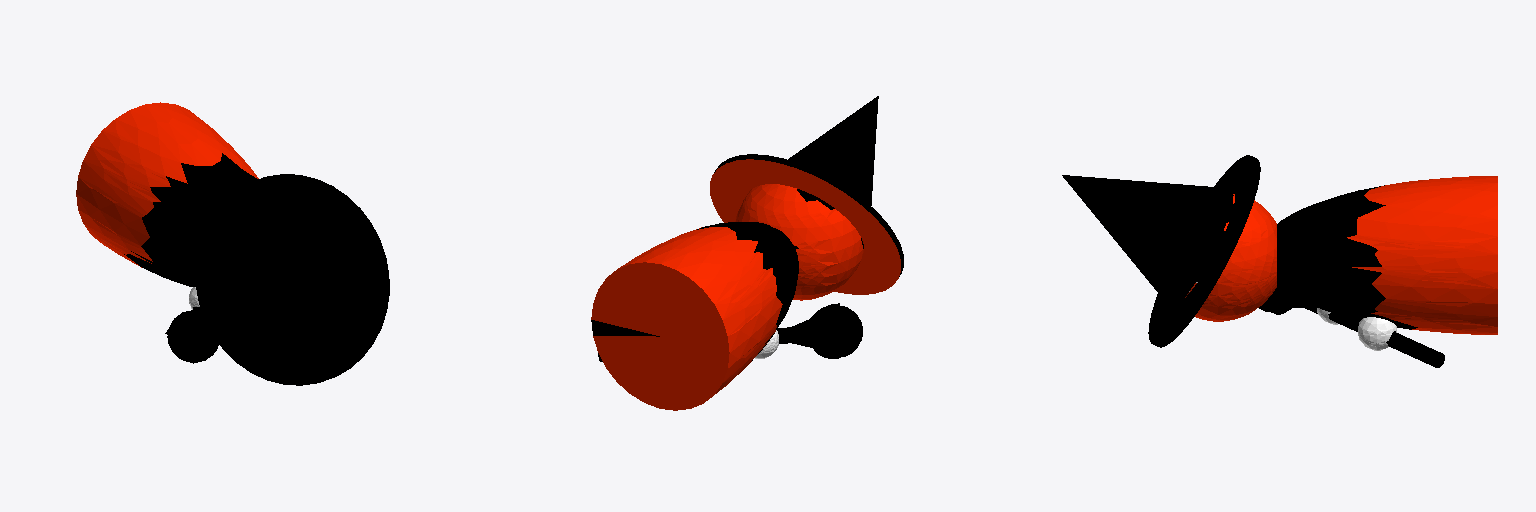
File: OrangePawn.obj
3 renders of one model, left to right at view 1: azimuth 30°, elevation 25°; view 2: azimuth 150°, elevation 25°; view 3: azimuth 270°, elevation 25°, orthographic.
Parts seen in each view (by area): view 1: WizardPawn; view 2: WizardPawn; view 3: WizardPawn.
Part boxes in pixels (left/top/right/bottom): WizardPawn: left=76, top=102, right=389, bottom=385; WizardPawn: left=591, top=96, right=903, bottom=410; WizardPawn: left=1062, top=155, right=1497, bottom=367.
Bounding box in the file's own units: 14.59 × 13.3 × 29.5.